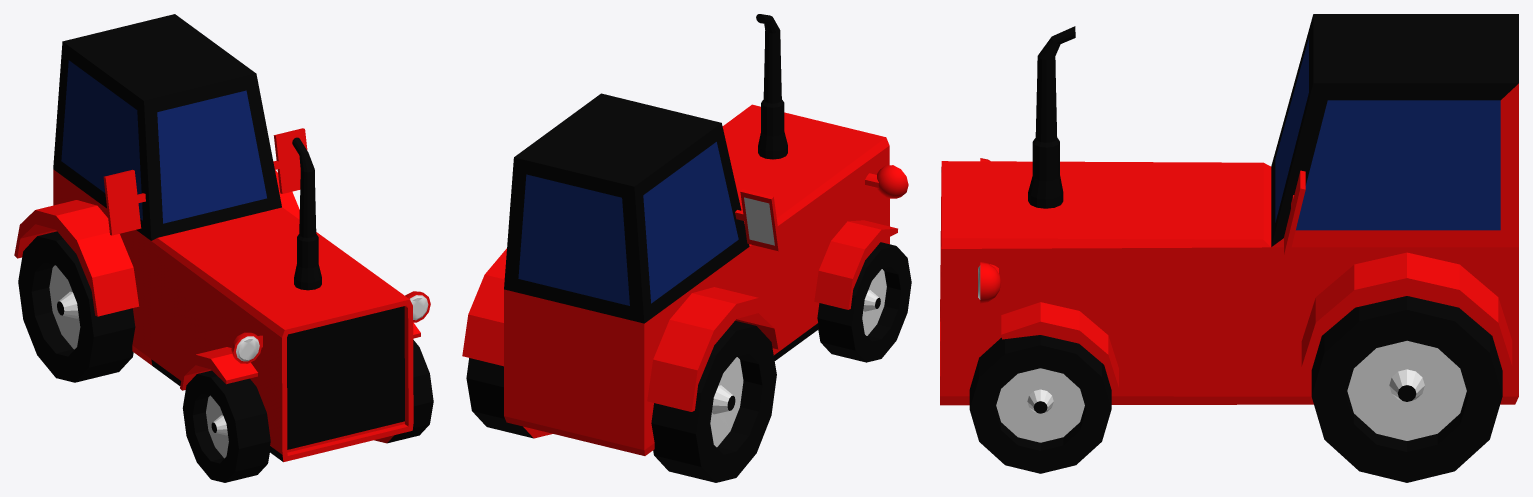
Rendered from traktor_2.fbx.
The picture shows the model from 3 angles, left to right: view 1: azimuth 30°, elevation 25°; view 2: azimuth 150°, elevation 25°; view 3: azimuth 270°, elevation 25°; orthographic projection. The views are drawn at different scales.
Visible parts, largest first — view 1: Object_8.001; view 2: Object_8.001; view 3: Object_8.001.
Boxes of the visible parts, x1,y1,x2,y2 form: Object_8.001: (14, 14, 433, 482); Object_8.001: (462, 14, 911, 482); Object_8.001: (940, 14, 1518, 482).
Bounding box in the file's own units: 21.88 × 30.29 × 40.59.
